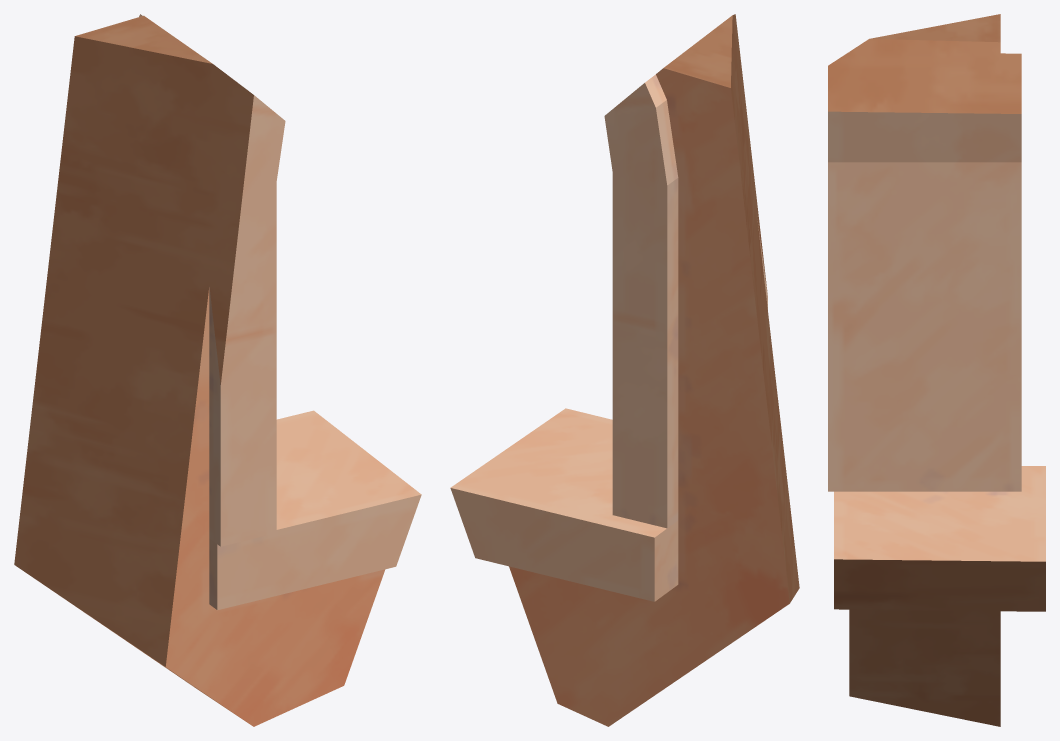
File: wall2_upper_window_s09.fbx
The picture shows the model from 3 angles, left to right: view 1: azimuth 30°, elevation 25°; view 2: azimuth 150°, elevation 25°; view 3: azimuth 270°, elevation 25°; orthographic projection. The views are drawn at different scales.
Parts seen in each view (by area): view 1: wall2_upper_window_s09; view 2: wall2_upper_window_s09; view 3: wall2_upper_window_s09.
Boxes of the visible parts, <box> form: wall2_upper_window_s09: <box>14,14,421,726</box>; wall2_upper_window_s09: <box>450,14,799,726</box>; wall2_upper_window_s09: <box>828,14,1045,726</box>.
Size of the model in its own units: 2.31 by 4.73 by 1.44.
